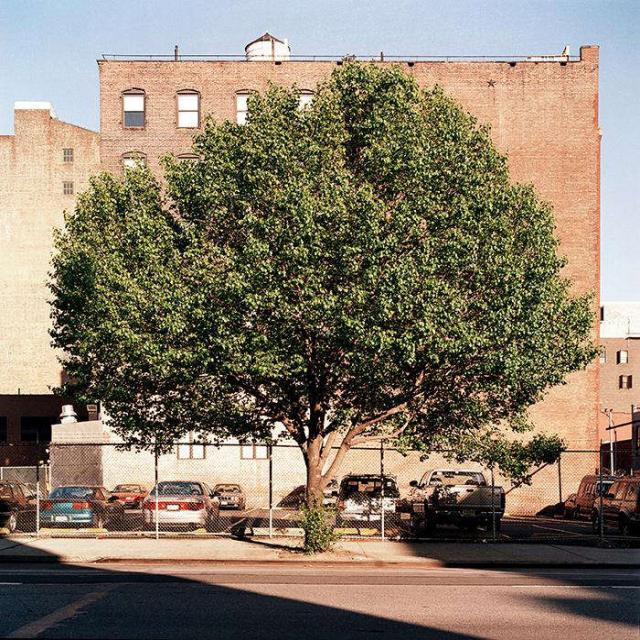Tree: (50, 54, 604, 557)
